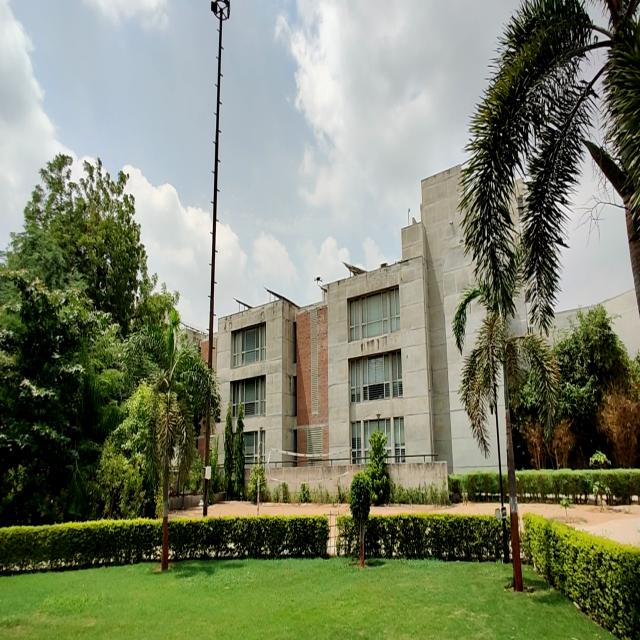drone: (313, 271, 324, 289)
